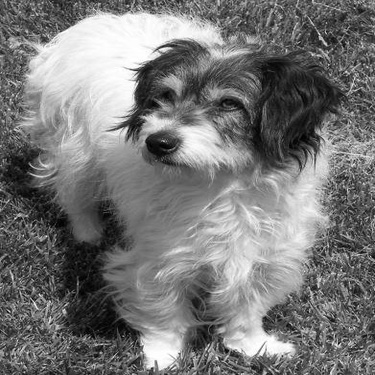dog: (14, 8, 346, 371)
